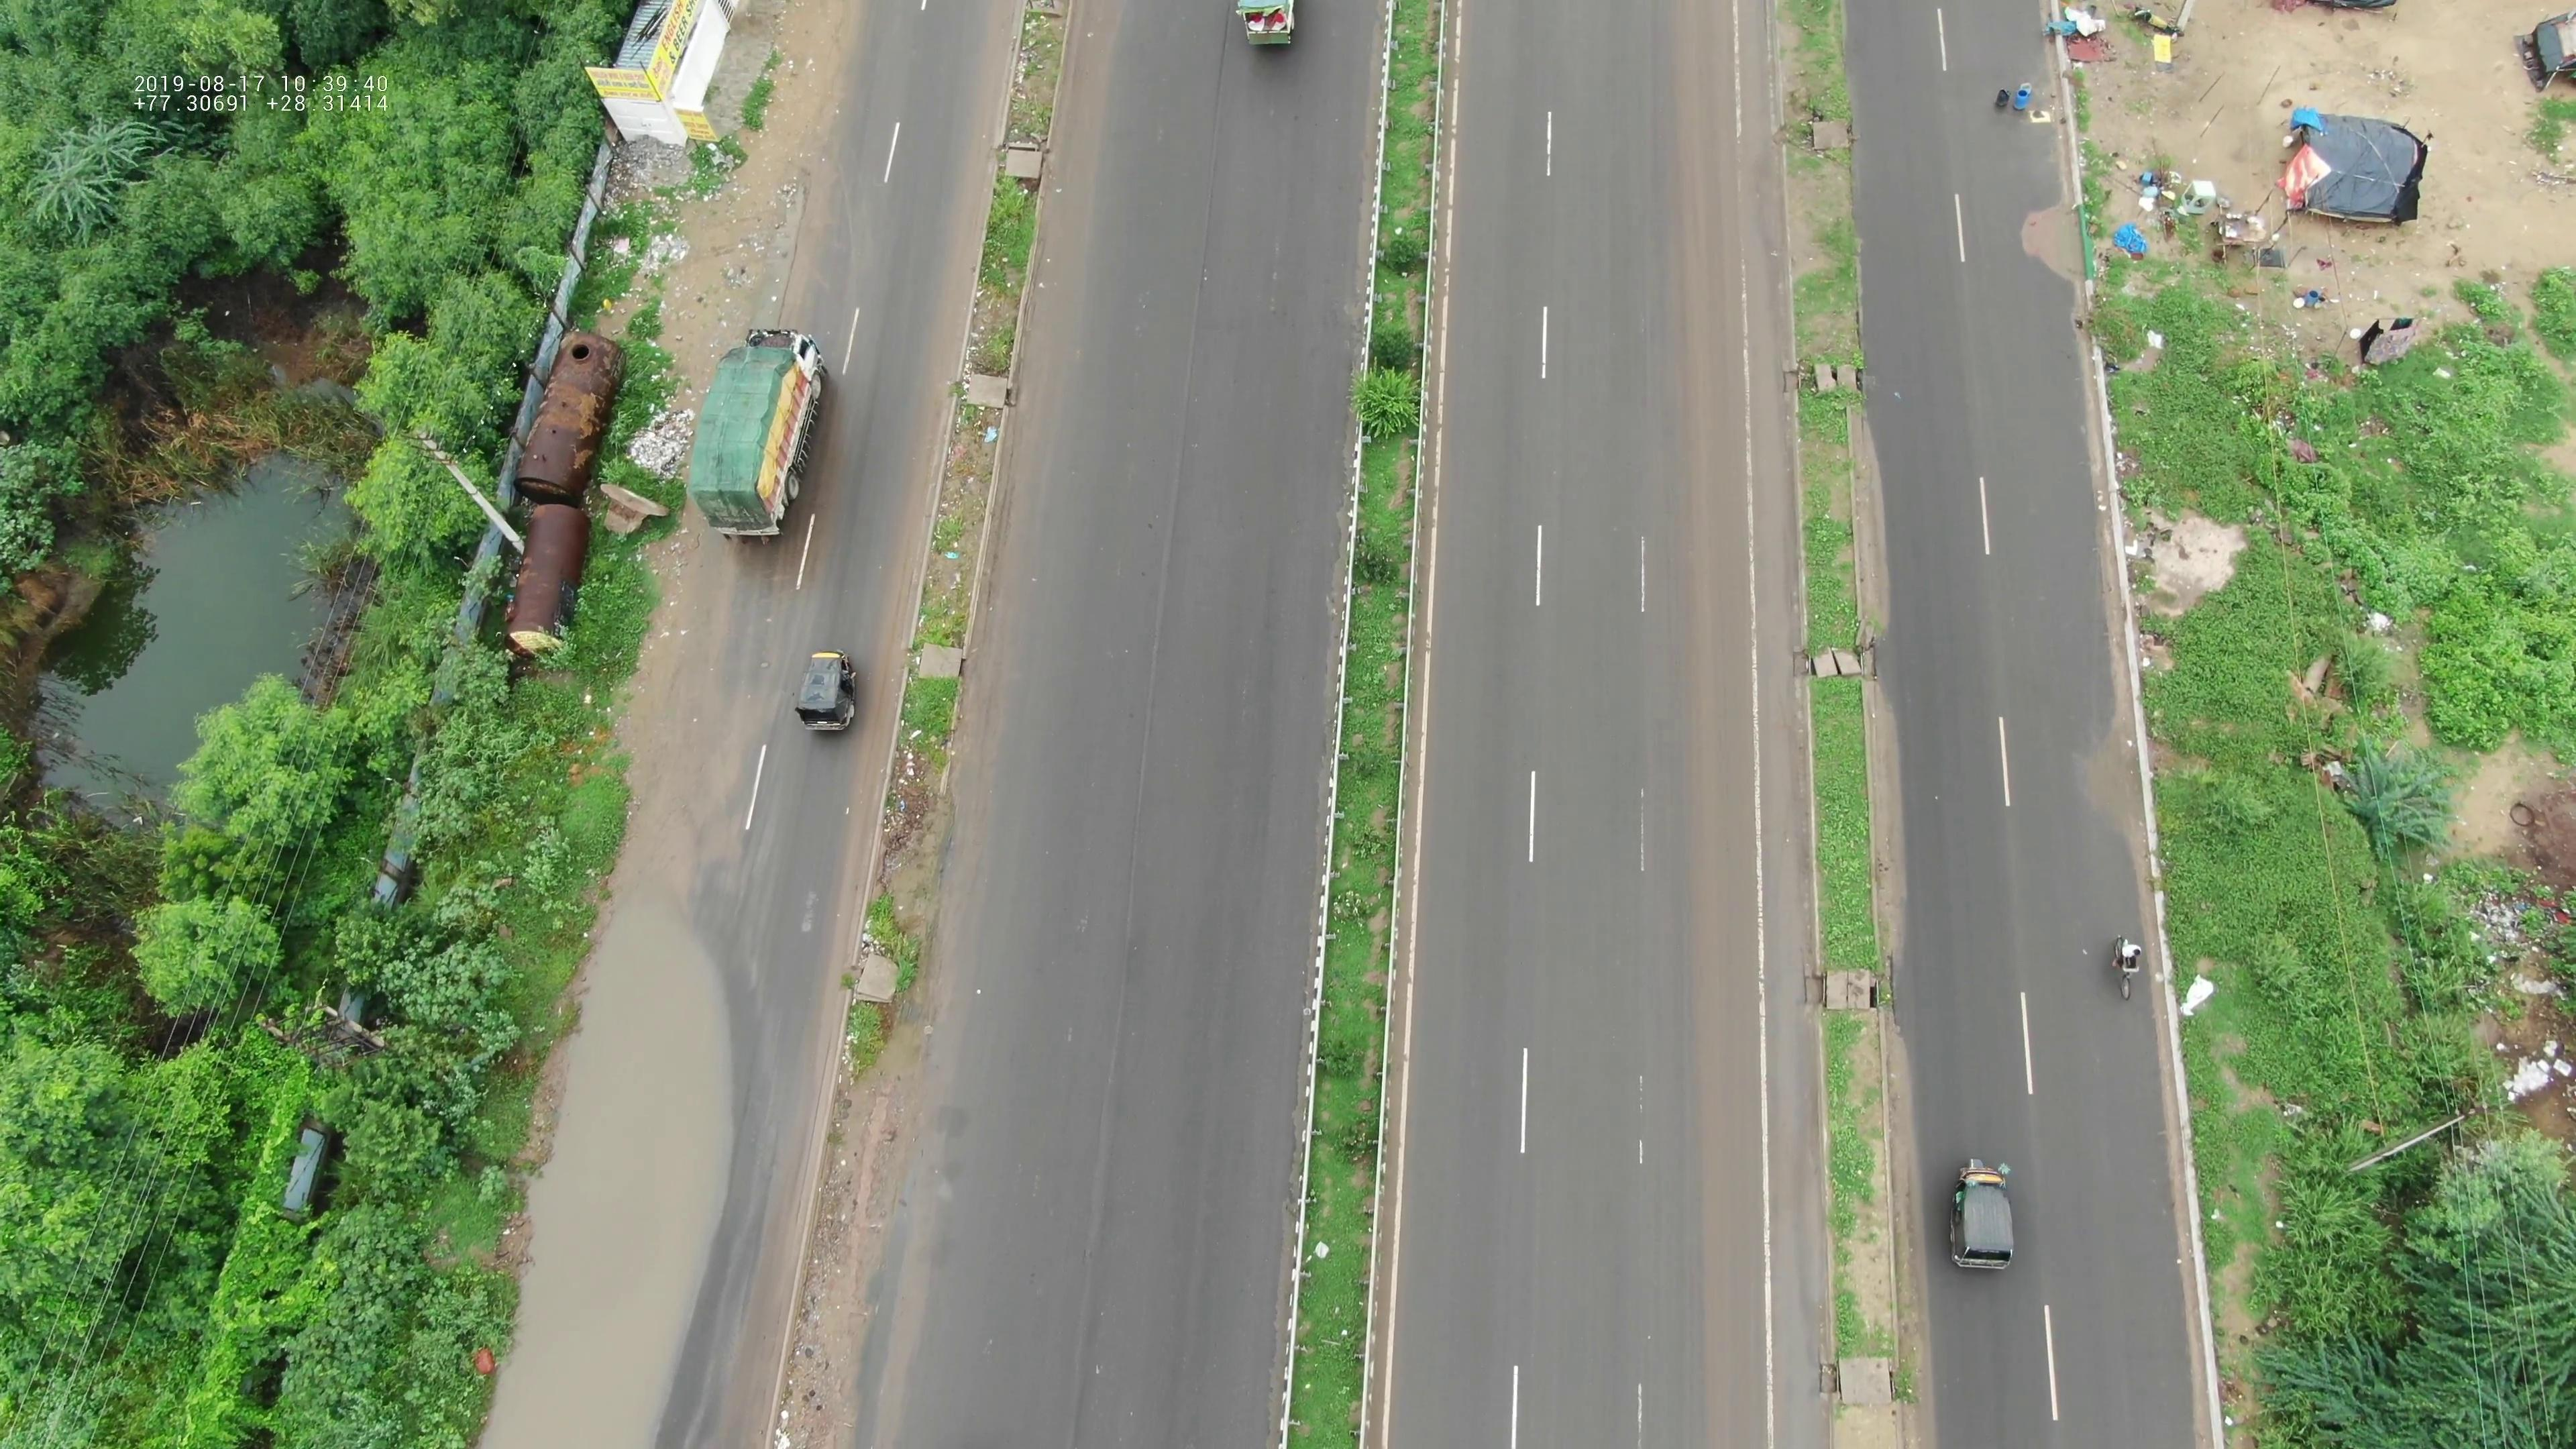Waterlogging: (465, 867, 763, 1428)
